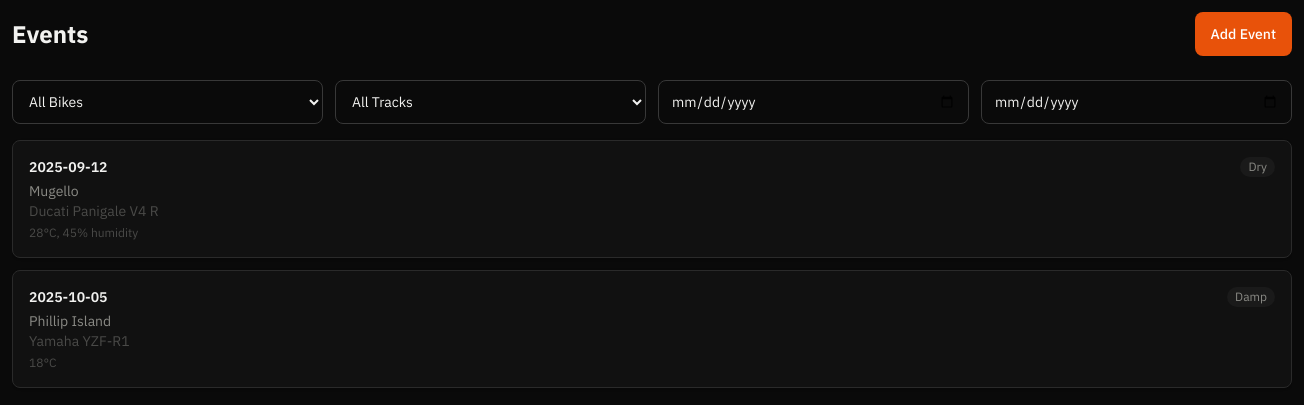
Test case: Events screen › filters events by bike
The image size is (1304, 405).
Expected: the number of links with test id "event-card" is 2, [12, 140, 1292, 258]; [12, 270, 1292, 388]
Select "Ducati Panigale V4 R" in the dropdown with test id "filter-bike": (168, 102) [12, 80, 323, 124]
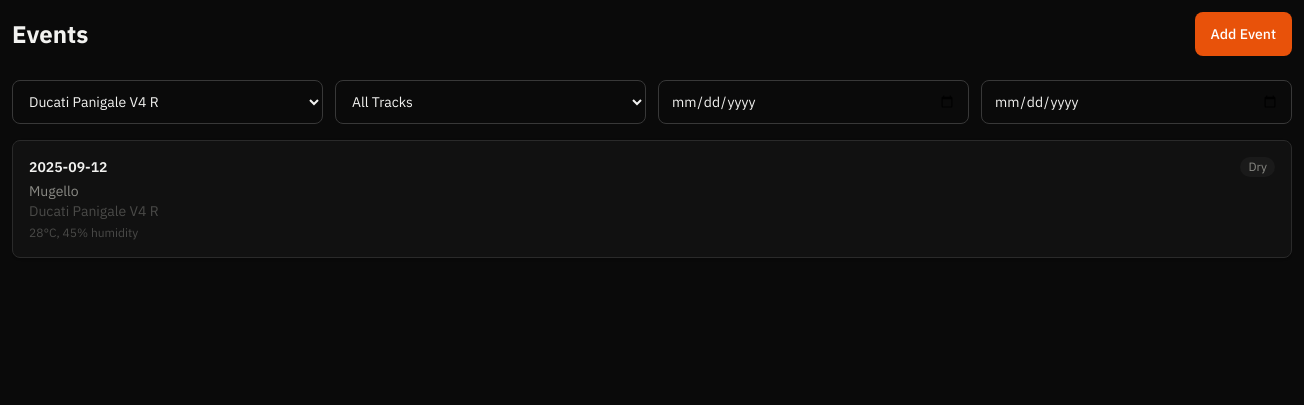
Expected: the text "2025-09-12" is shown, [29, 157, 108, 177]
Expected: the number of links with test id "event-card" is 1, [12, 140, 1292, 258]
